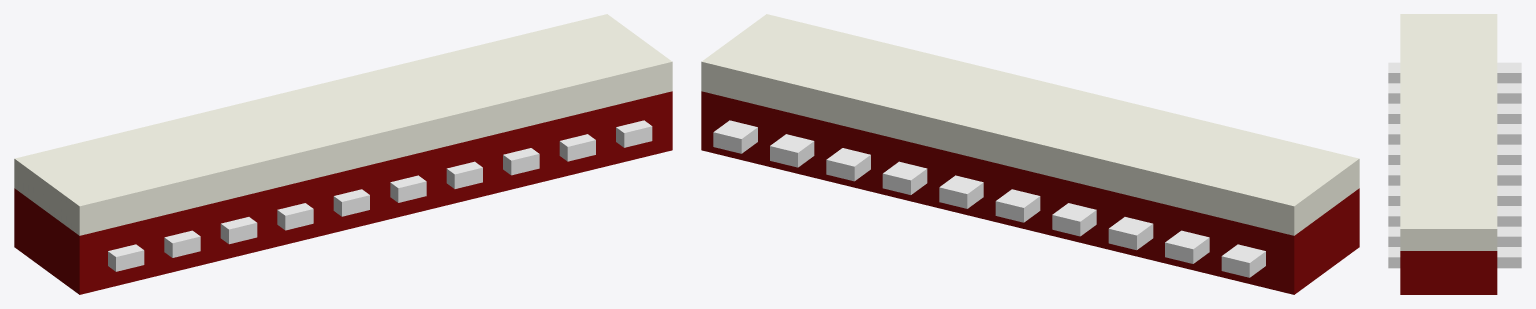
File: Argentinian_Asado_de_Tira.fbx
3 renders of one model, left to right at view 1: azimuth 30°, elevation 25°; view 2: azimuth 150°, elevation 25°; view 3: azimuth 270°, elevation 25°, orthographic. The views are drawn at different scales.
Parts seen in each view (by area): view 1: top_fat, base_meat, bone_3, bone_8, bone_2, bone_5, bone_4, bone_1, bone_6, bone_9, bone_10, bone_7; view 2: top_fat, base_meat, bone_5, bone_3, bone_7, bone_8, bone_2, bone_1, bone_4, bone_9, bone_6, bone_10; view 3: top_fat, base_meat, bone_10, bone_1, bone_2, bone_4, bone_6, bone_8, bone_3, bone_5, bone_7, bone_9.
Boxes of the visible parts, x1,y1,x2,y2 form: top_fat: (14, 14, 672, 235); base_meat: (14, 91, 672, 294); bone_3: (220, 217, 257, 244); bone_8: (503, 148, 539, 175); bone_2: (164, 230, 200, 257); bone_5: (333, 189, 369, 216); bone_4: (277, 203, 313, 230); bone_1: (108, 244, 144, 271); bone_6: (390, 175, 426, 202); bone_9: (559, 134, 595, 161); bone_10: (616, 120, 652, 147); bone_7: (446, 161, 482, 188); top_fat: (701, 14, 1359, 235); base_meat: (701, 91, 1359, 294); bone_5: (995, 189, 1040, 222); bone_3: (1108, 217, 1153, 250); bone_7: (882, 161, 927, 194); bone_8: (826, 148, 870, 181); bone_2: (1165, 230, 1209, 263); bone_1: (1221, 244, 1265, 277); bone_4: (1052, 203, 1096, 236); bone_9: (770, 134, 814, 167); bone_6: (939, 175, 983, 208); bone_10: (713, 120, 757, 153); top_fat: (1400, 14, 1497, 250); base_meat: (1400, 251, 1497, 294); bone_10: (1388, 247, 1521, 268); bone_1: (1388, 62, 1521, 83); bone_2: (1388, 83, 1521, 103); bone_4: (1388, 124, 1521, 144); bone_6: (1388, 165, 1521, 185); bone_8: (1388, 206, 1521, 226); bone_3: (1388, 103, 1521, 123); bone_5: (1388, 144, 1521, 164); bone_7: (1388, 185, 1521, 205); bone_9: (1388, 226, 1521, 246).
Size of the model in its own units: 131 by 18.75 by 34.38.
Materials: 3 (3 with a texture image).
